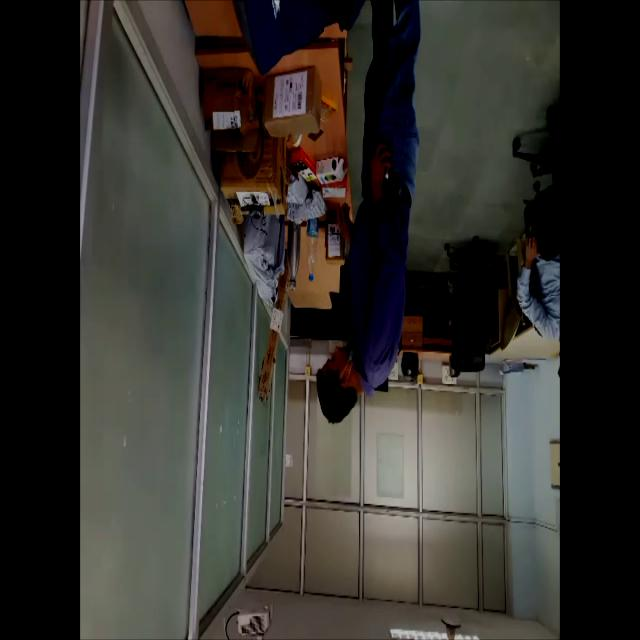shoplifting: (318, 0, 428, 443)
